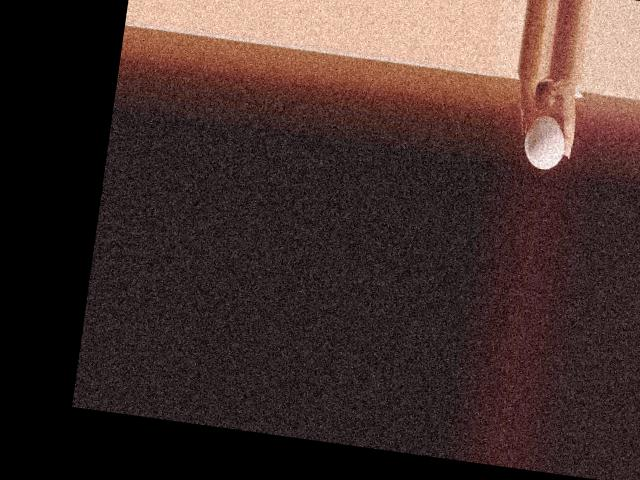egg: (520, 112, 568, 171)
